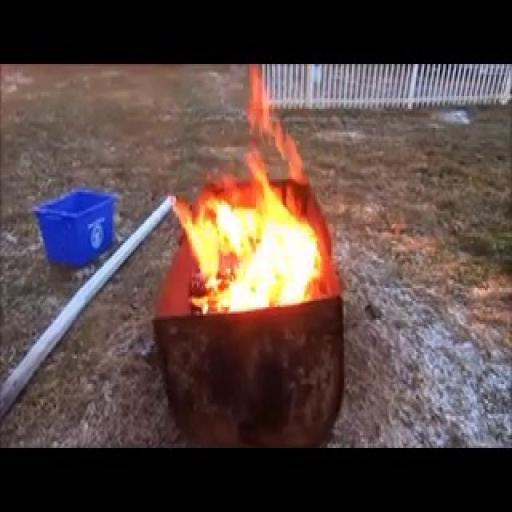smoke: (155, 125, 339, 319)
